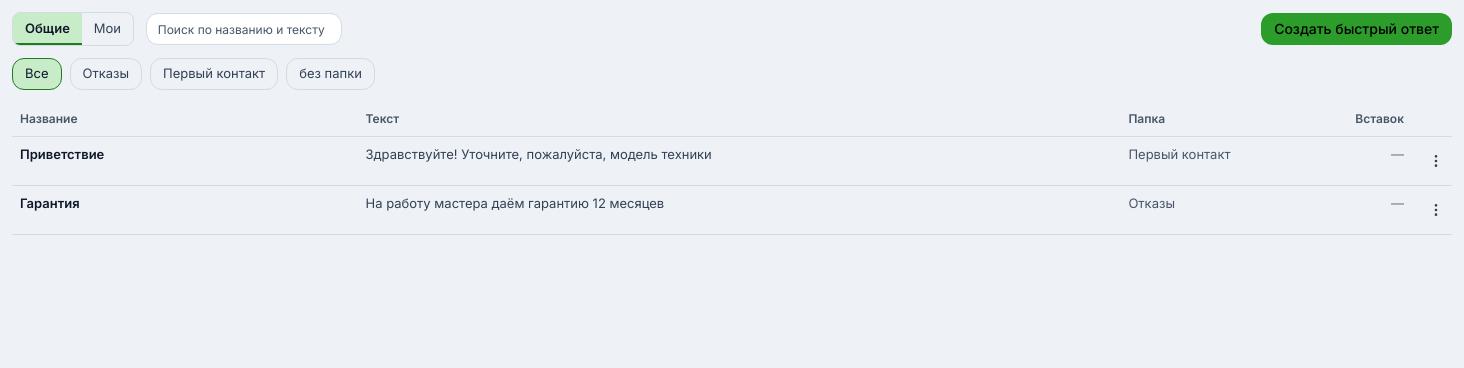
Test case: Быстрые ответы — фильтры и пустое состояние › пустота от поиска названа причиной, а не выдана за пустой раздел
expect the table is shown: met, box [12,102,1452,235]
Type "посудомойка" into the field named "Поиск по быстрым ответам".
click(244, 29); type("посудомойка")  # box [146,13,342,45]
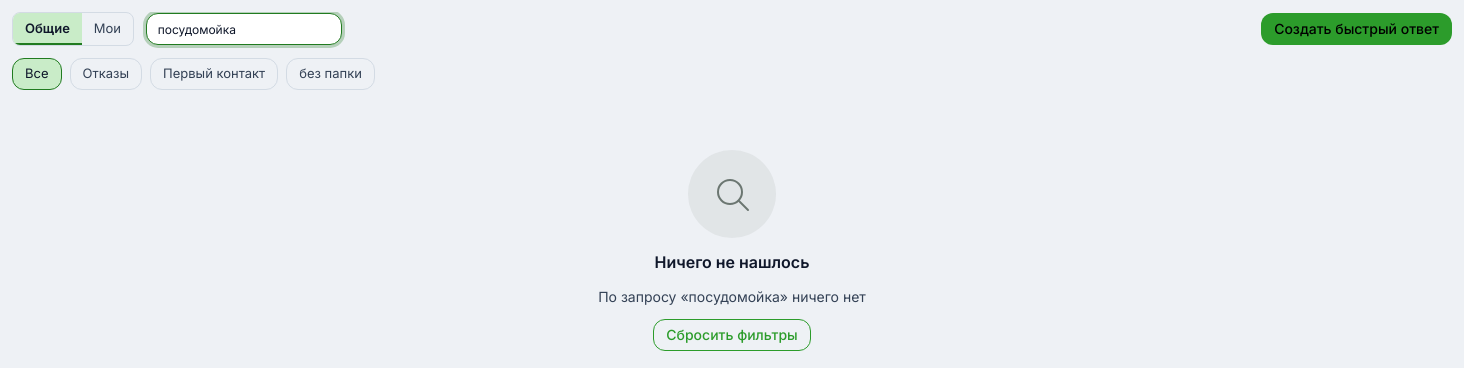
expect the text "Ничего не нашлось" is shown: met, box [655,250,810,274]
expect the text "По запросу «посудомойка» ничего нет" is shown: met, box [598,286,866,307]
Click the button "Сбросить фильтры".
click(732, 335)  # box [653,319,811,351]
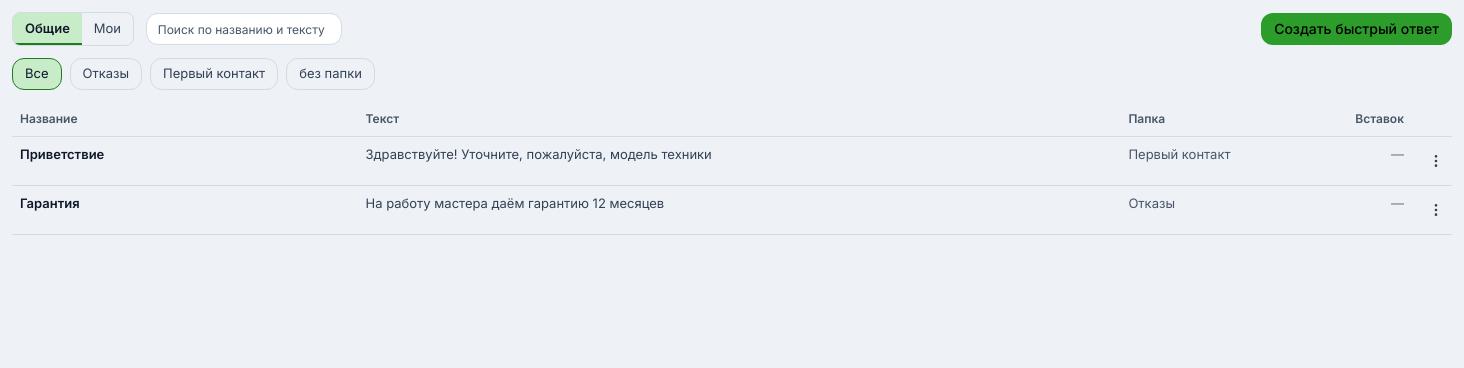
expect the table is shown: met, box [12,102,1452,235]
expect the field named "Поиск по быстрым ответам" is empty: met, box [146,13,342,45]
